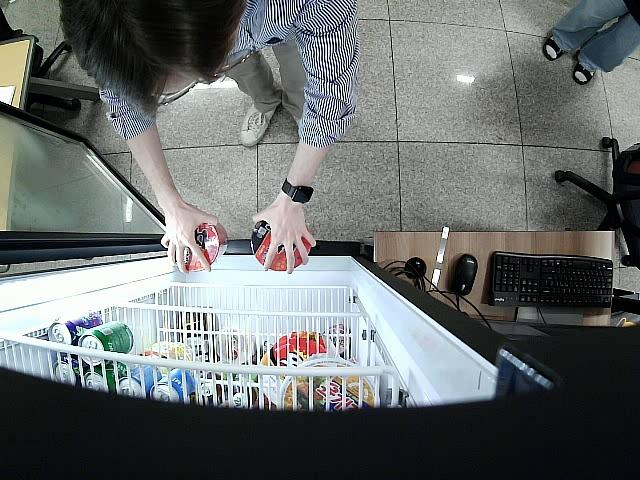00_hand: (253, 208, 315, 276), (160, 202, 220, 271)
01_shinRamen_L: (252, 219, 311, 269), (182, 221, 228, 273)
